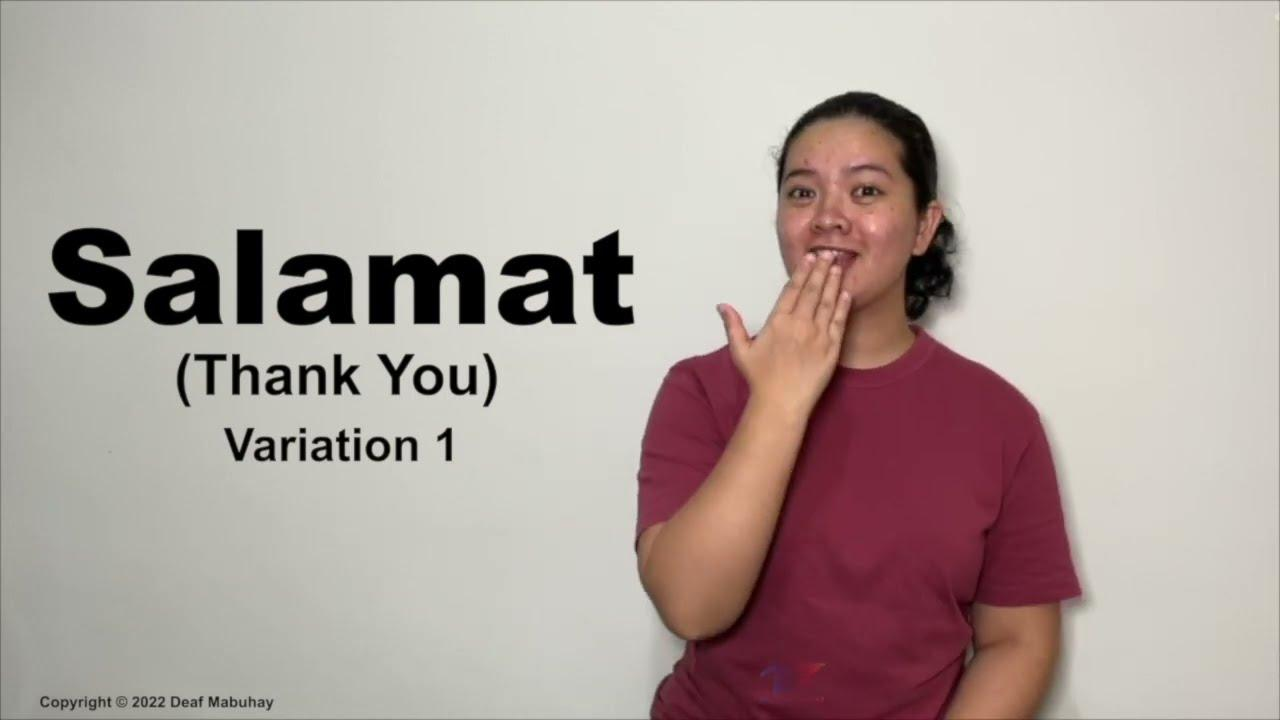Thankyou: (715, 247, 874, 429)
